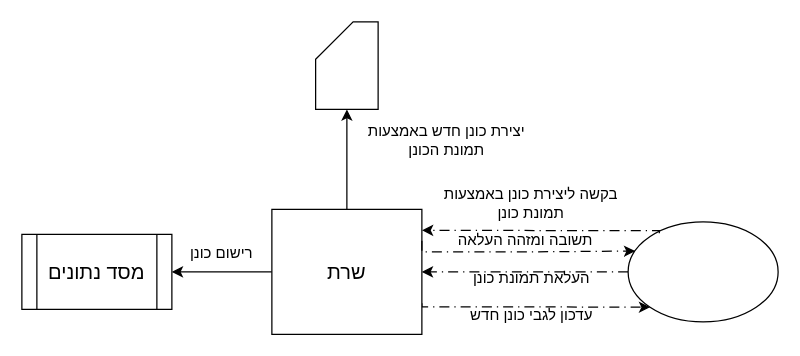
This 800x356 diagram has some shape labels left out. Each missing label, with the box of its shape:
כונן: (314, 21, 378, 109)
לקוח: (627, 221, 778, 322)
